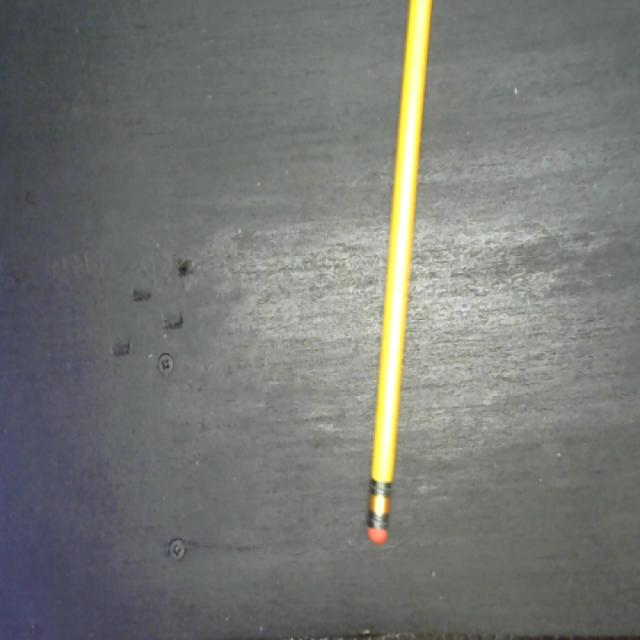biodegradable: (363, 0, 433, 551)
